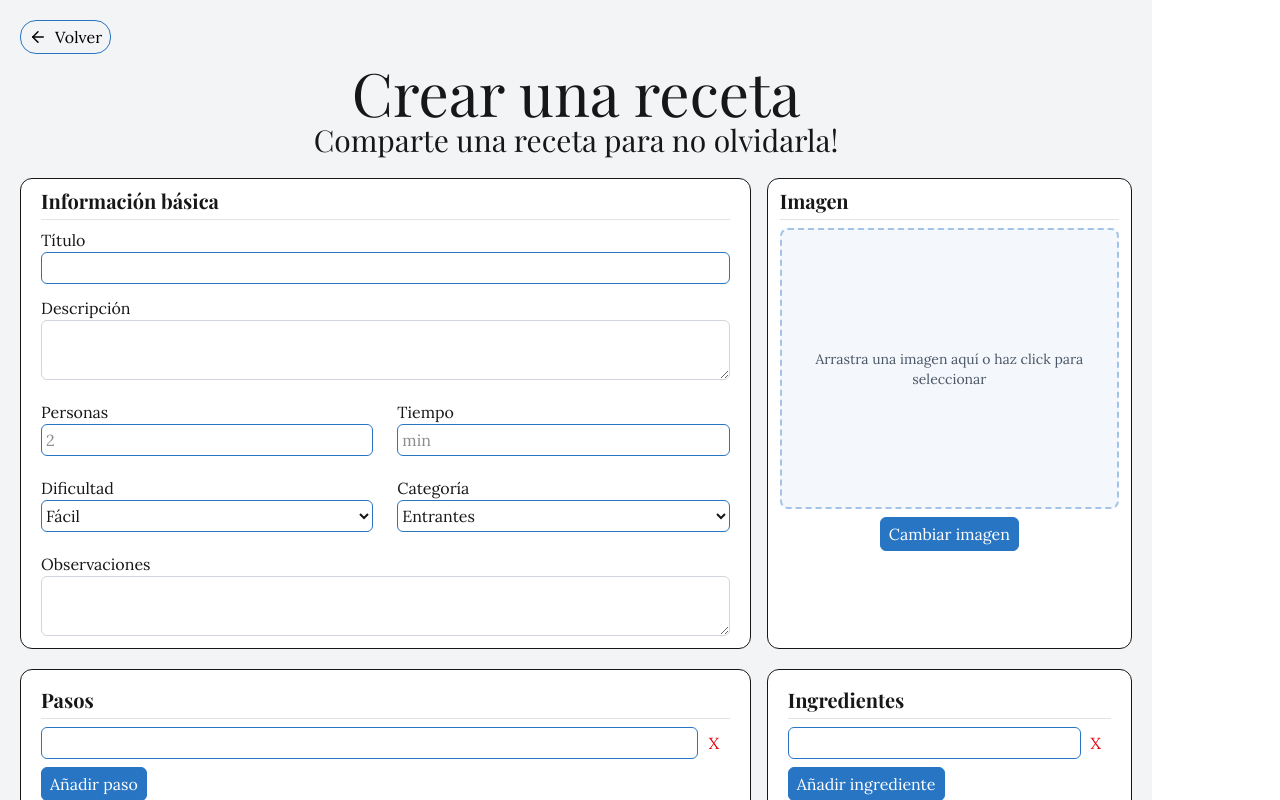
Test: RecipeForm › should add a new step field when the add-step button is clicked
The width and height of the screenshot is (1280, 800).
In the field below "Pasos": (370, 743) [41,727,698,759], type "Precalentar el horno"
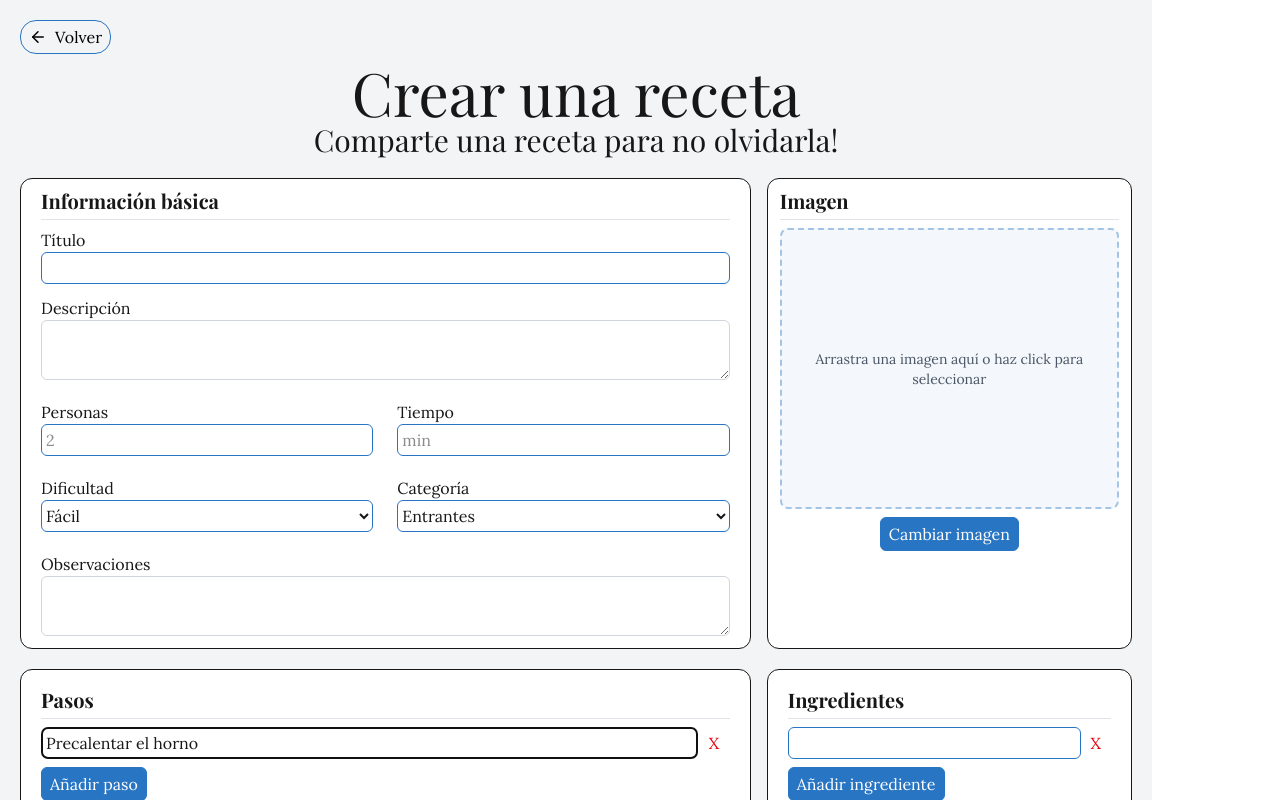
Click the button "Añadir paso": click(94, 784) [41,767,147,799]
(page scrolled)
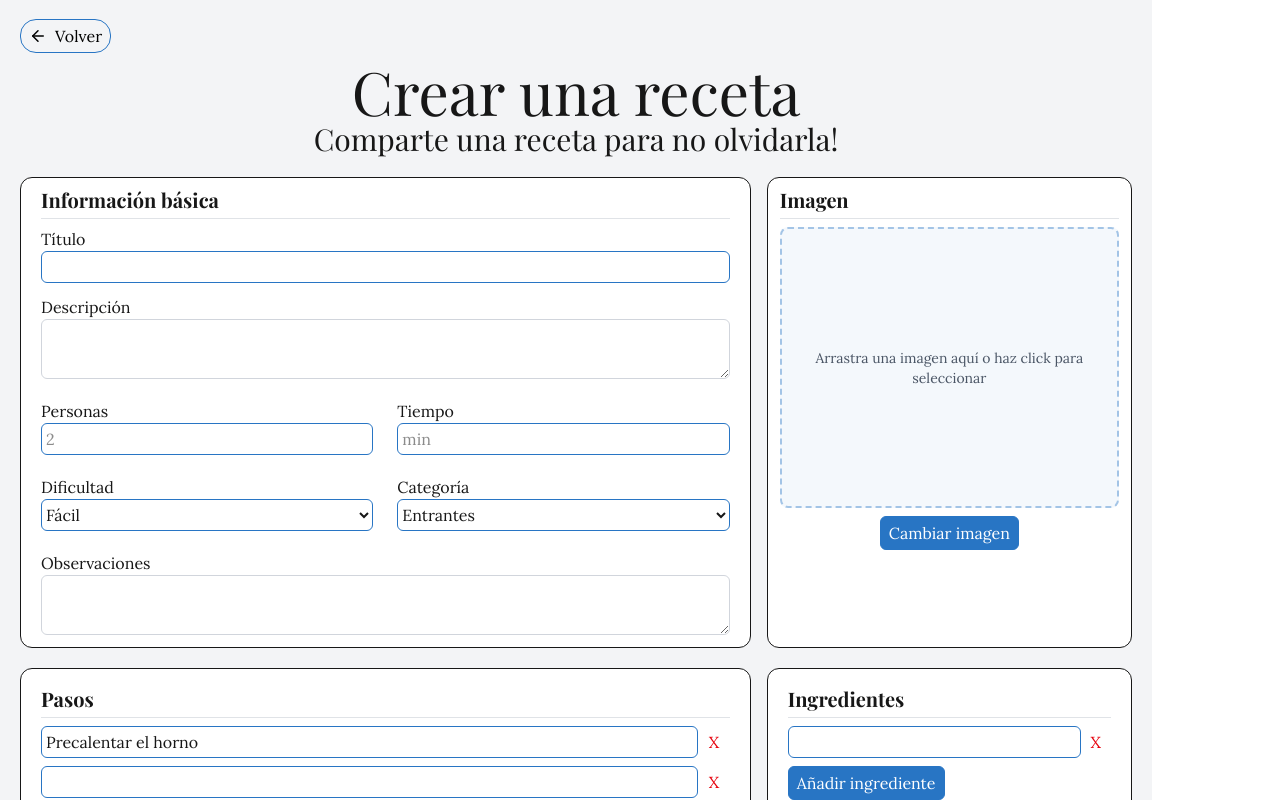
Expected: the 6th field is shown, [41,766,698,798]
